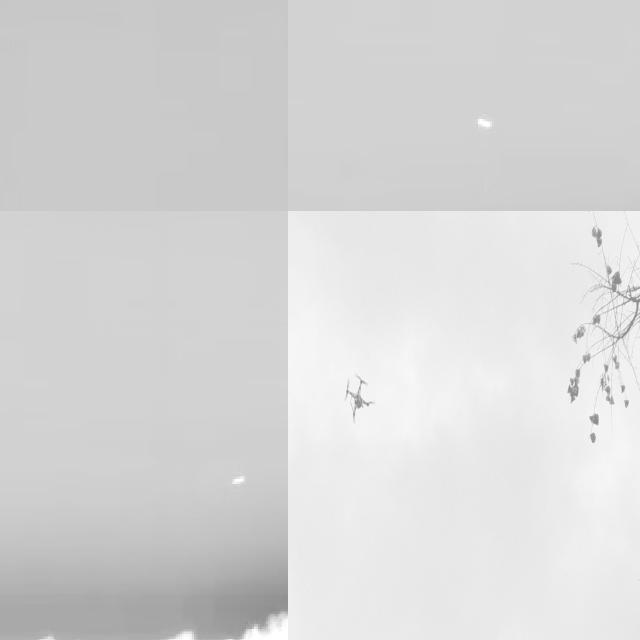1: (222, 469, 256, 499), (469, 113, 501, 143)
drone: (344, 372, 374, 425)
